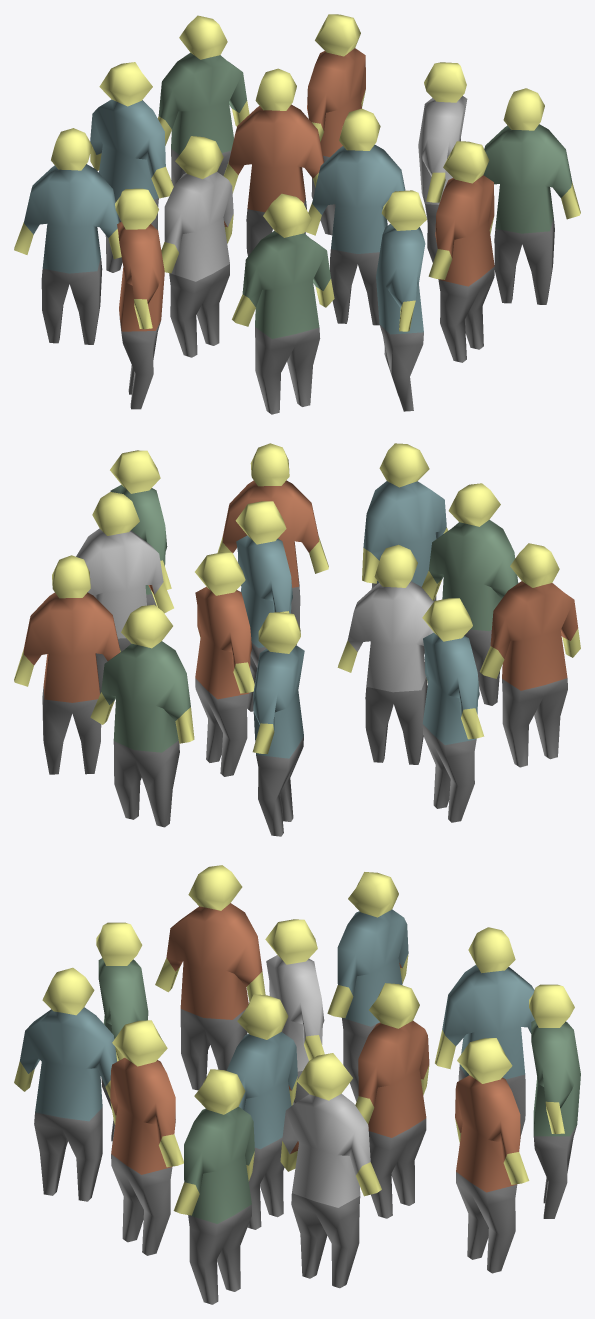
Rendered from Crowd.fbx.
3 views of the same model, one above another, from view 1: azimuth 30°, elevation 25°; view 2: azimuth 150°, elevation 25°; view 3: azimuth 270°, elevation 25° (orthographic). The views are drawn at different scales.
Visible parts, largest first — view 1: Crowd; view 2: Crowd; view 3: Crowd.
Part boxes in pixels (x1,y1,x2,y2): Crowd: (14, 14, 580, 414); Crowd: (14, 443, 580, 836); Crowd: (14, 865, 580, 1304).
Size of the model in its own units: 64.22 by 27.72 by 63.93.
